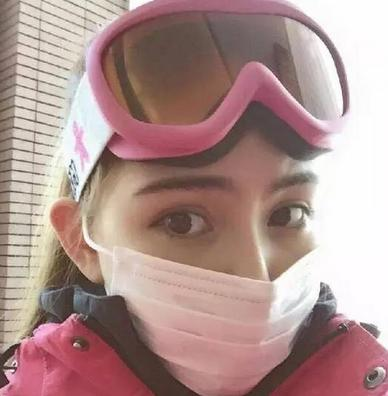WRONG: (113, 168, 327, 382)
